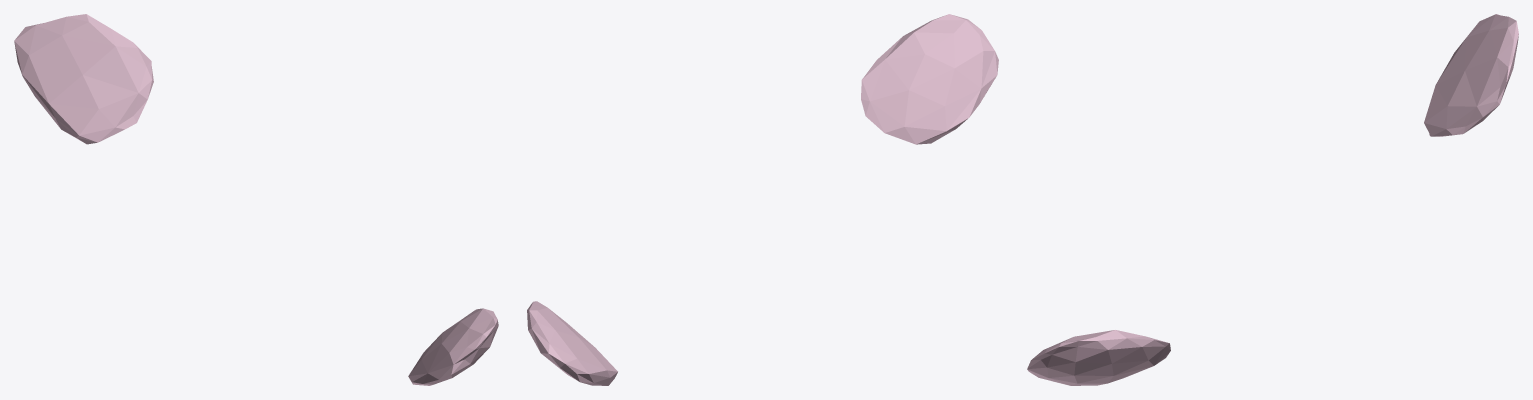
3 renders of one model, left to right at view 1: azimuth 30°, elevation 25°; view 2: azimuth 150°, elevation 25°; view 3: azimuth 330°, elevation 25°, orthographic. The views are drawn at different scales.
Parts seen in each view (by area): view 1: 859.obj; view 2: 859.obj; view 3: 859.obj.
Part boxes in pixels (<box>): 859.obj: <box>14,14,498,385</box>; 859.obj: <box>527,14,998,385</box>; 859.obj: <box>1027,14,1518,385</box>.
Bounding box in the file's own units: 244 × 238 × 2080.
